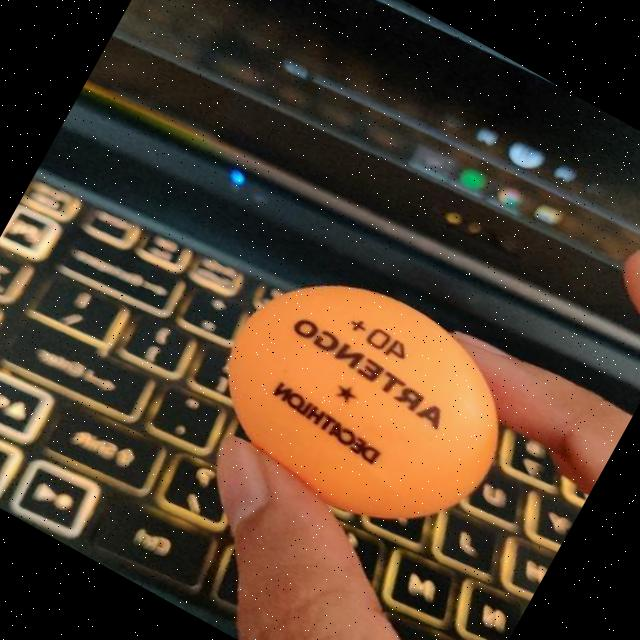ping-pong-ball: (183, 238, 542, 564)
